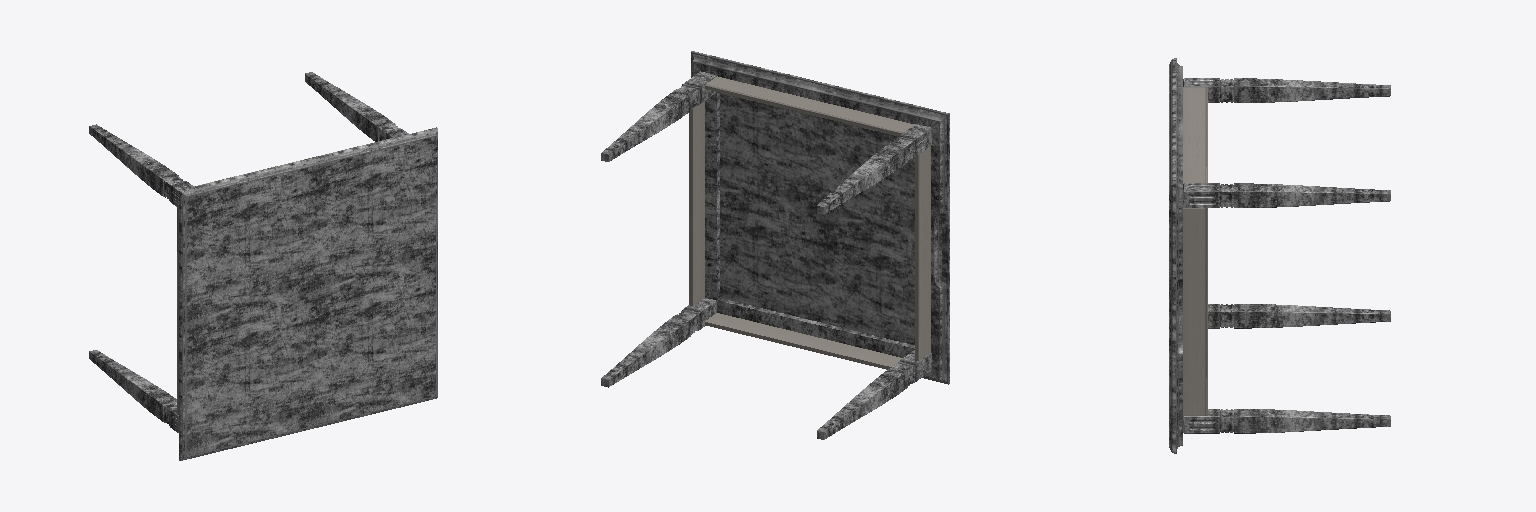
3 views of the same model, side by side, from view 1: azimuth 30°, elevation 25°; view 2: azimuth 150°, elevation 25°; view 3: azimuth 270°, elevation 25° (orthographic).
Size of the model in its own units: 0.6823 by 0.6823 by 0.5071.
1 materials, 1 textured.